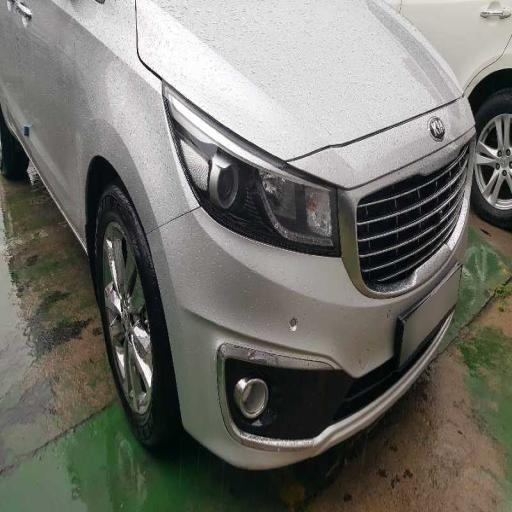broken: (88, 8, 414, 340)
